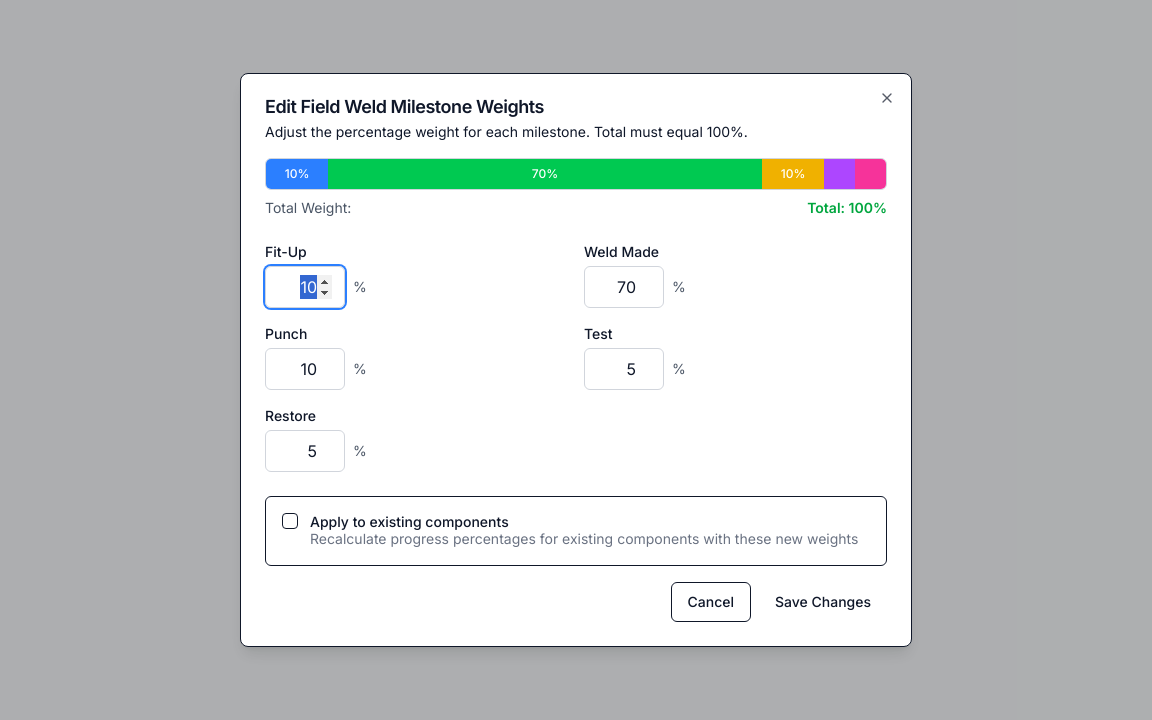
TemplateEditor › updates total in real-time as user changes weights
expect the text "Total: 100%" is shown: met, box [807, 198, 887, 218]
# Change a weight
Step 1. Replace the text in the number field labelled "Fit-Up" with "15" → (305, 287), box [265, 266, 345, 308]
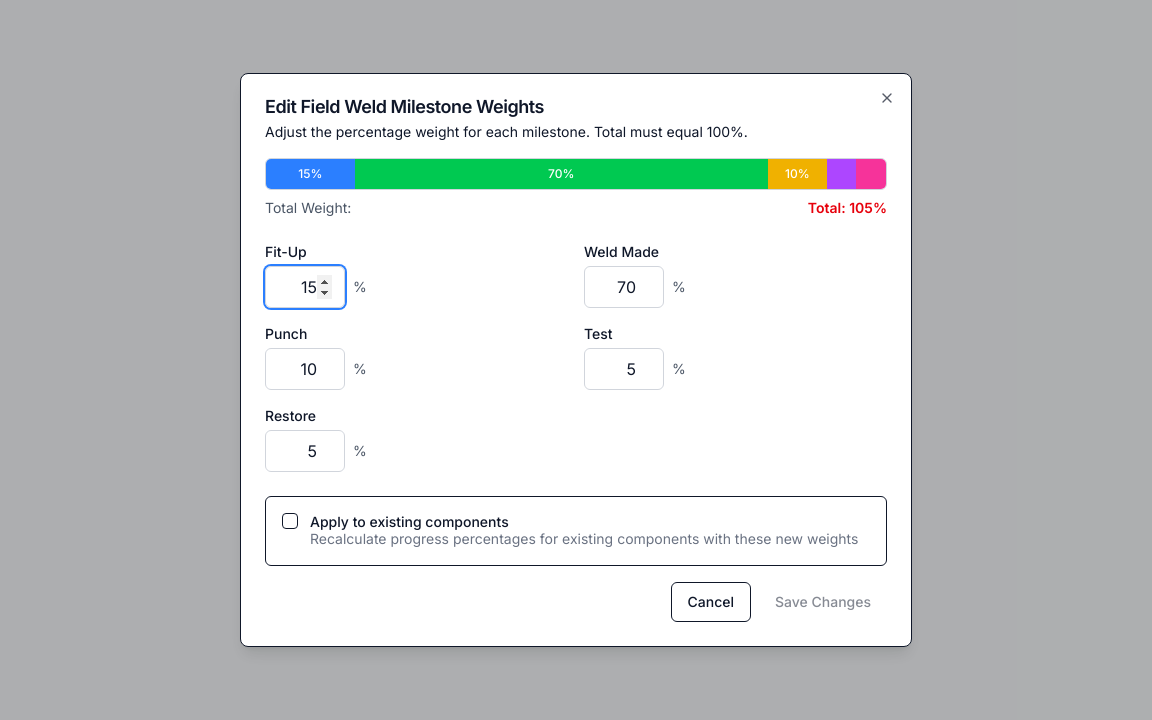
expect the text "Total: 105%" is shown: met, box [808, 198, 887, 218]
